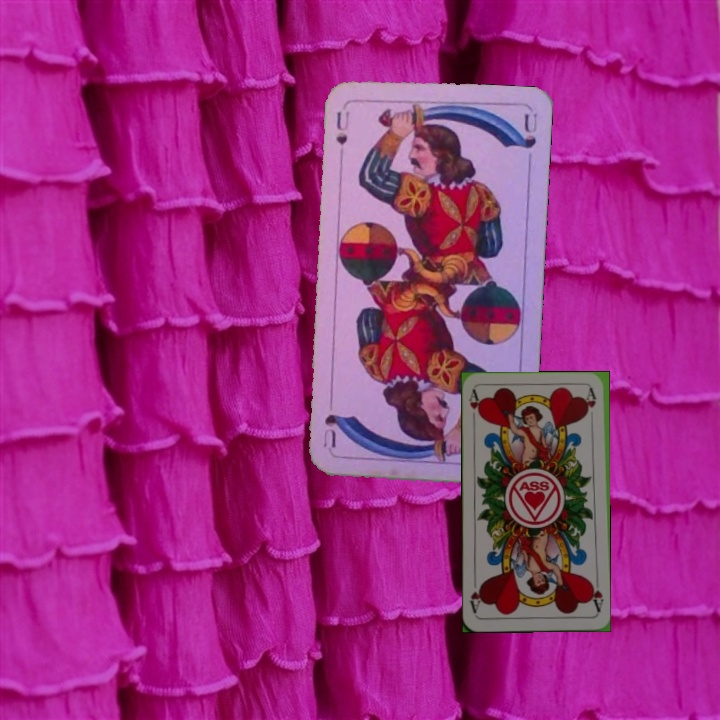HA: (586, 575, 606, 615), (465, 387, 484, 427)
SU: (331, 107, 352, 161)
